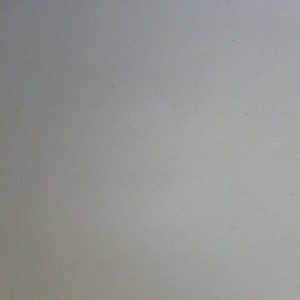base: (1, 1, 299, 300)
